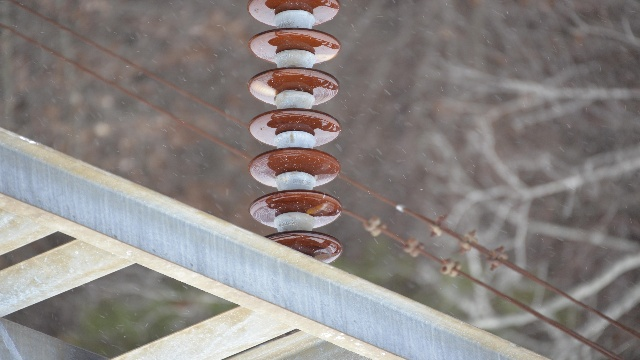insulator_unspecified: (247, 0, 346, 261)
pollution_flashover_local: (247, 78, 279, 99), (308, 200, 332, 219)
